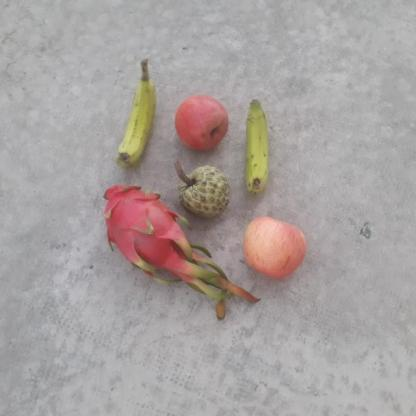annona: (176, 162, 230, 220)
apple: (243, 214, 309, 281), (172, 94, 232, 152)
banana: (115, 69, 160, 170), (241, 96, 278, 198)
pitaya: (101, 182, 180, 273)
